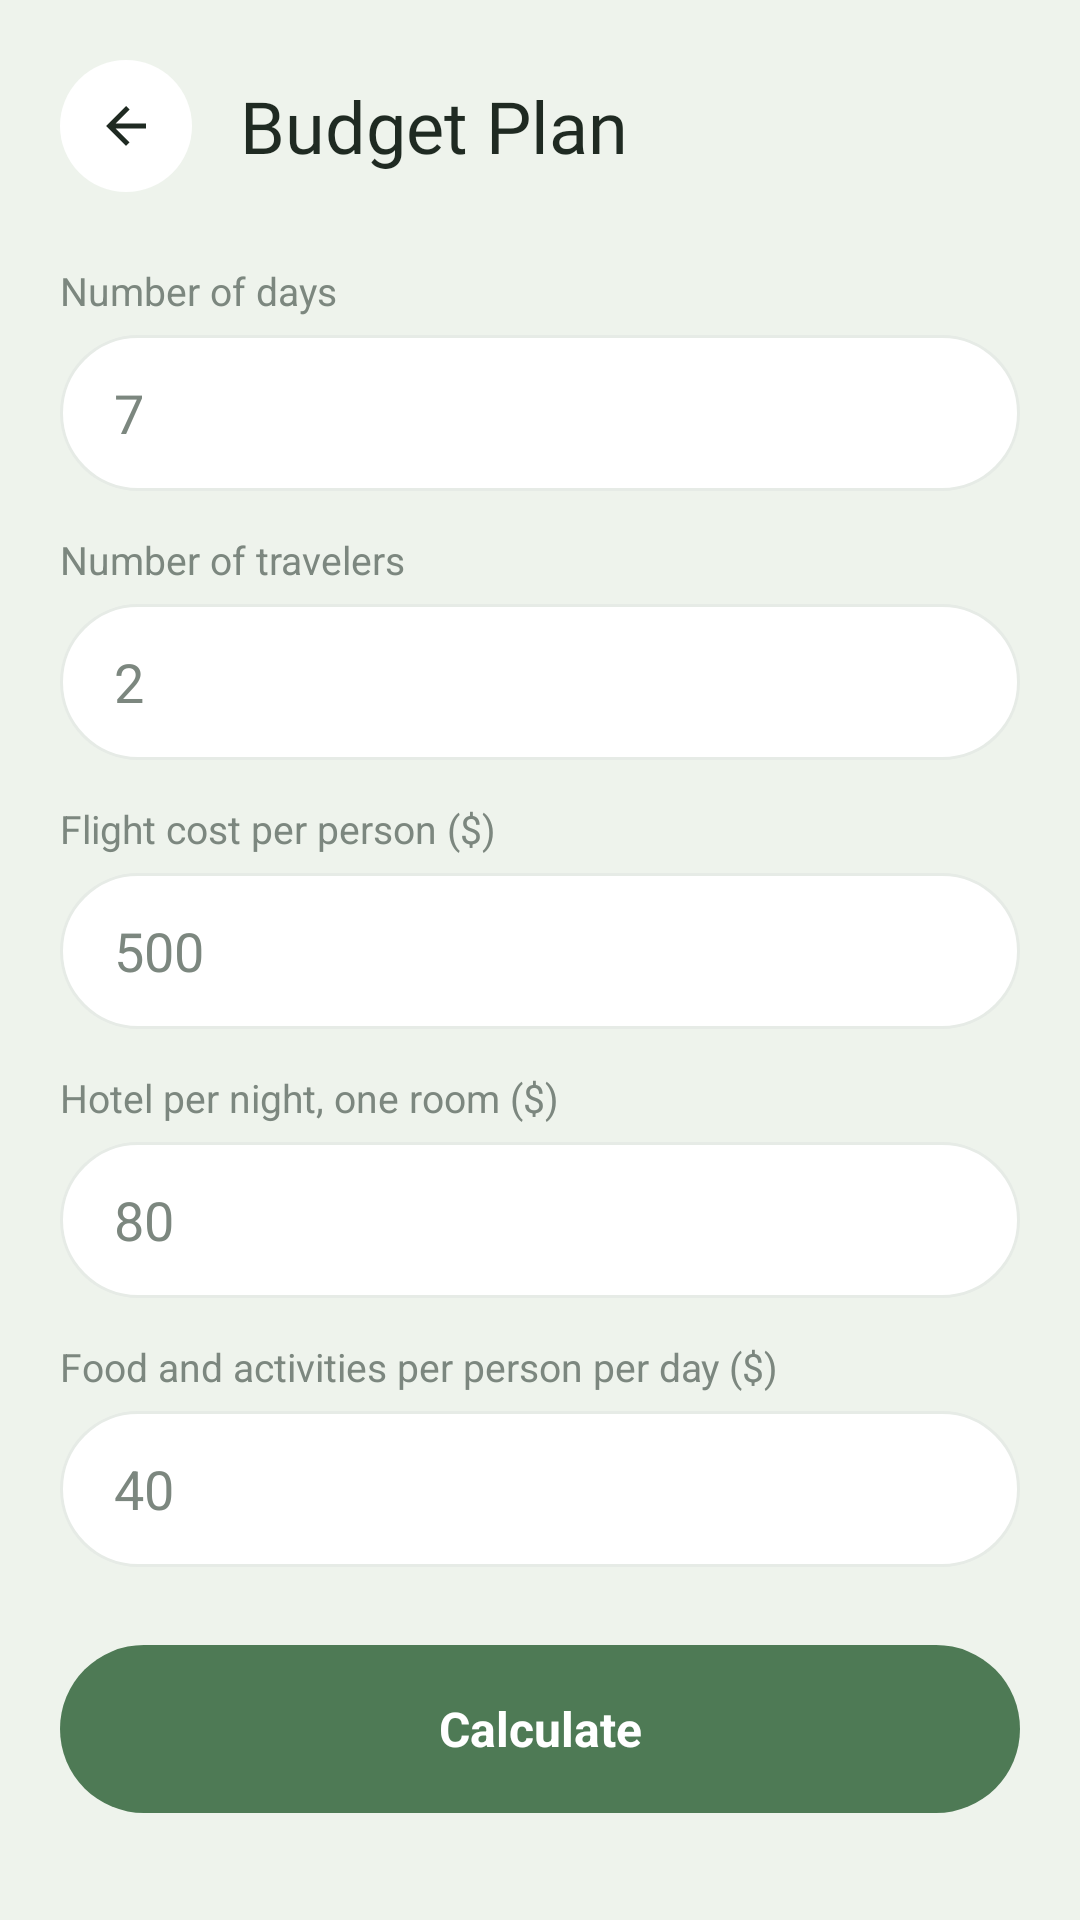

Named icons in this screenshot (1080w x 1920h) and their centers, (x,y):
back: (126,126)
